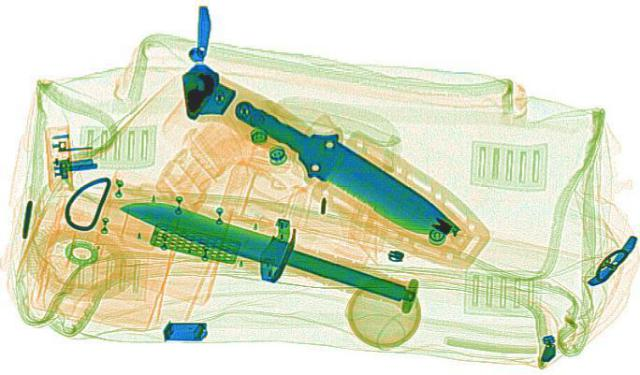Knife: (206, 89, 480, 244), (108, 191, 430, 308)
